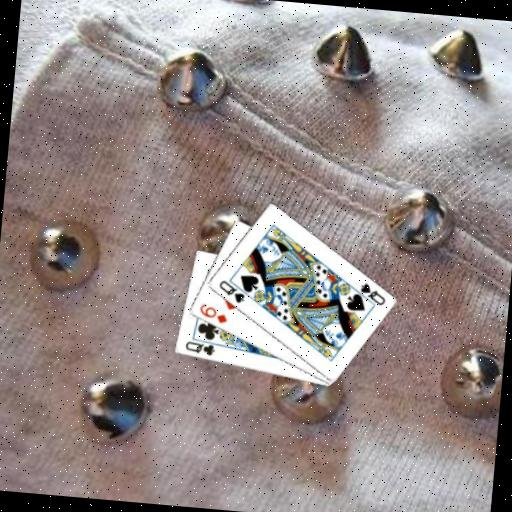6D: (196, 300, 230, 326)
QC: (182, 338, 217, 358)
QS: (214, 277, 248, 305), (355, 279, 388, 307)
